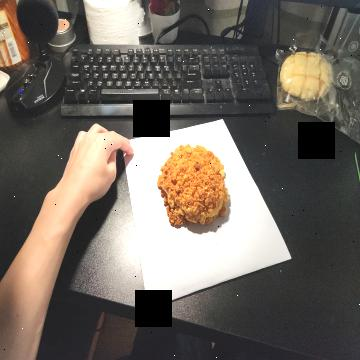soboru_bread: (156, 144, 229, 229)
